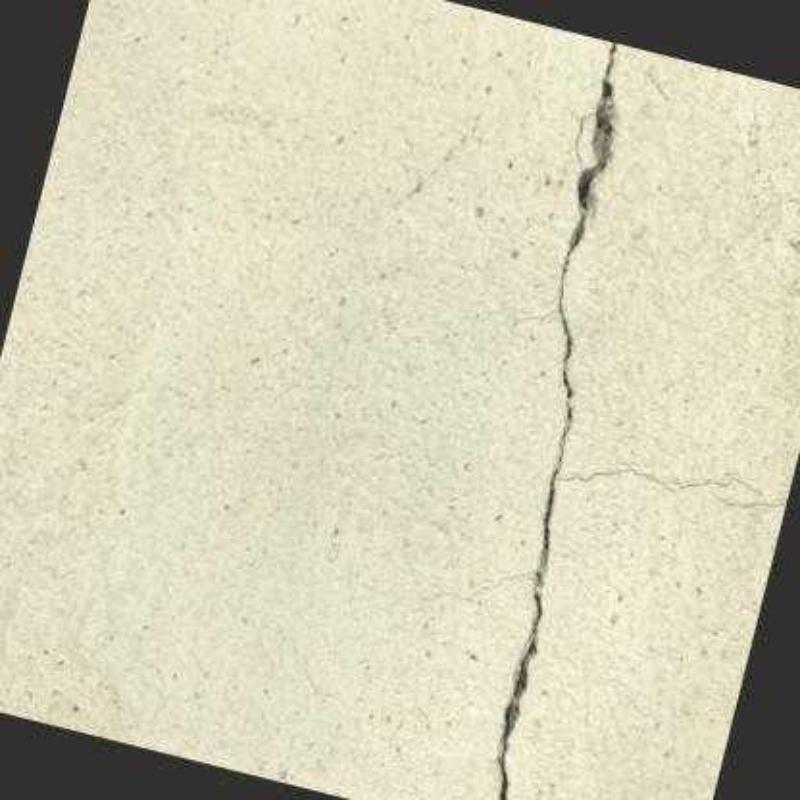pothole: (501, 42, 619, 798), (421, 569, 536, 602), (558, 469, 675, 492), (677, 473, 765, 498), (706, 487, 787, 508), (577, 112, 596, 169)
